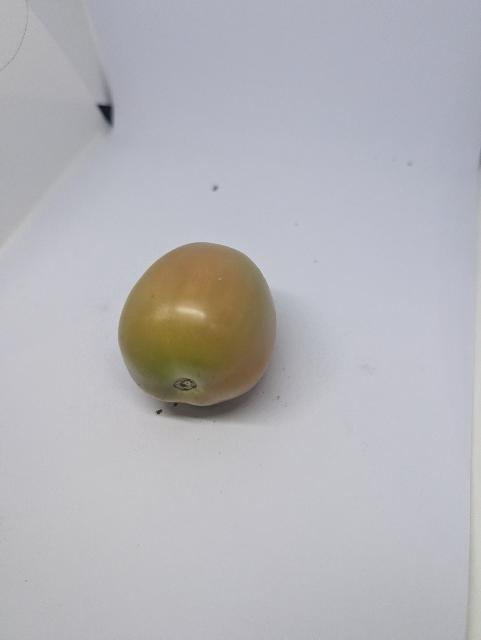breaker: (118, 243, 276, 406)
